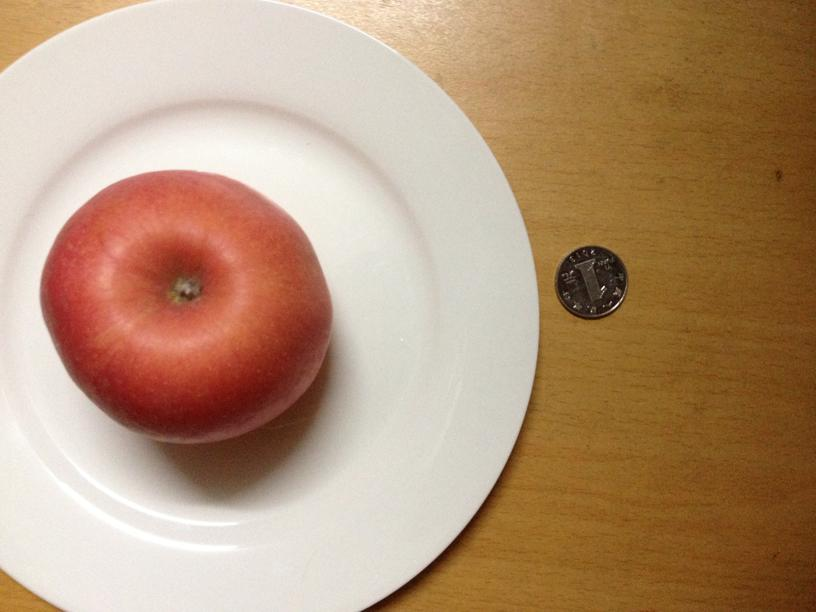apple: (36, 167, 333, 445)
coin: (556, 244, 630, 319)
